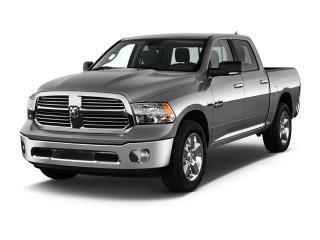ram: (67, 104, 84, 120)
